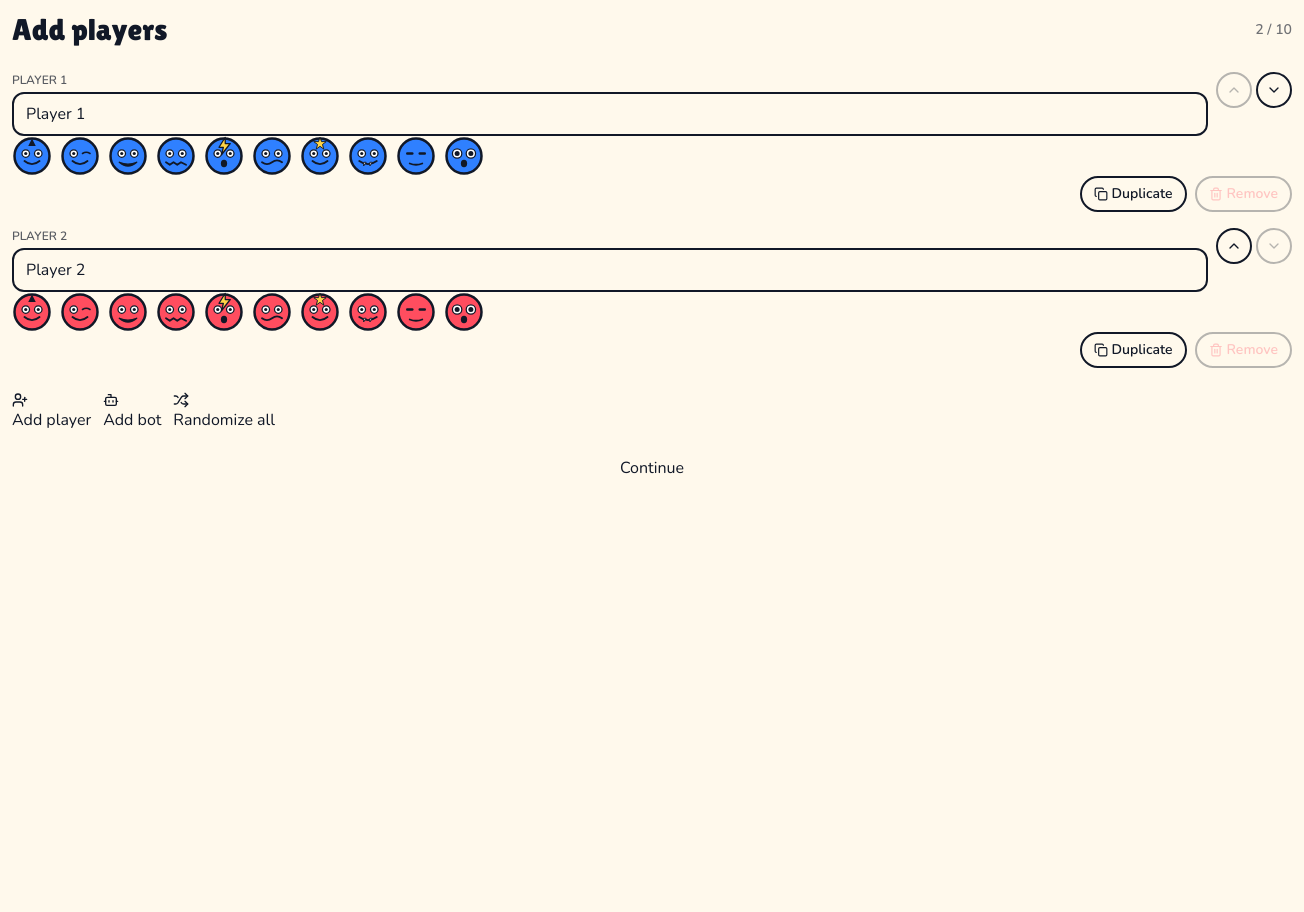
Test: PlayerSetupScreen › adds a bot with a visible Bot badge
Step 1. Click the button "Add bot" → [132, 412], box [103,392,161,432]
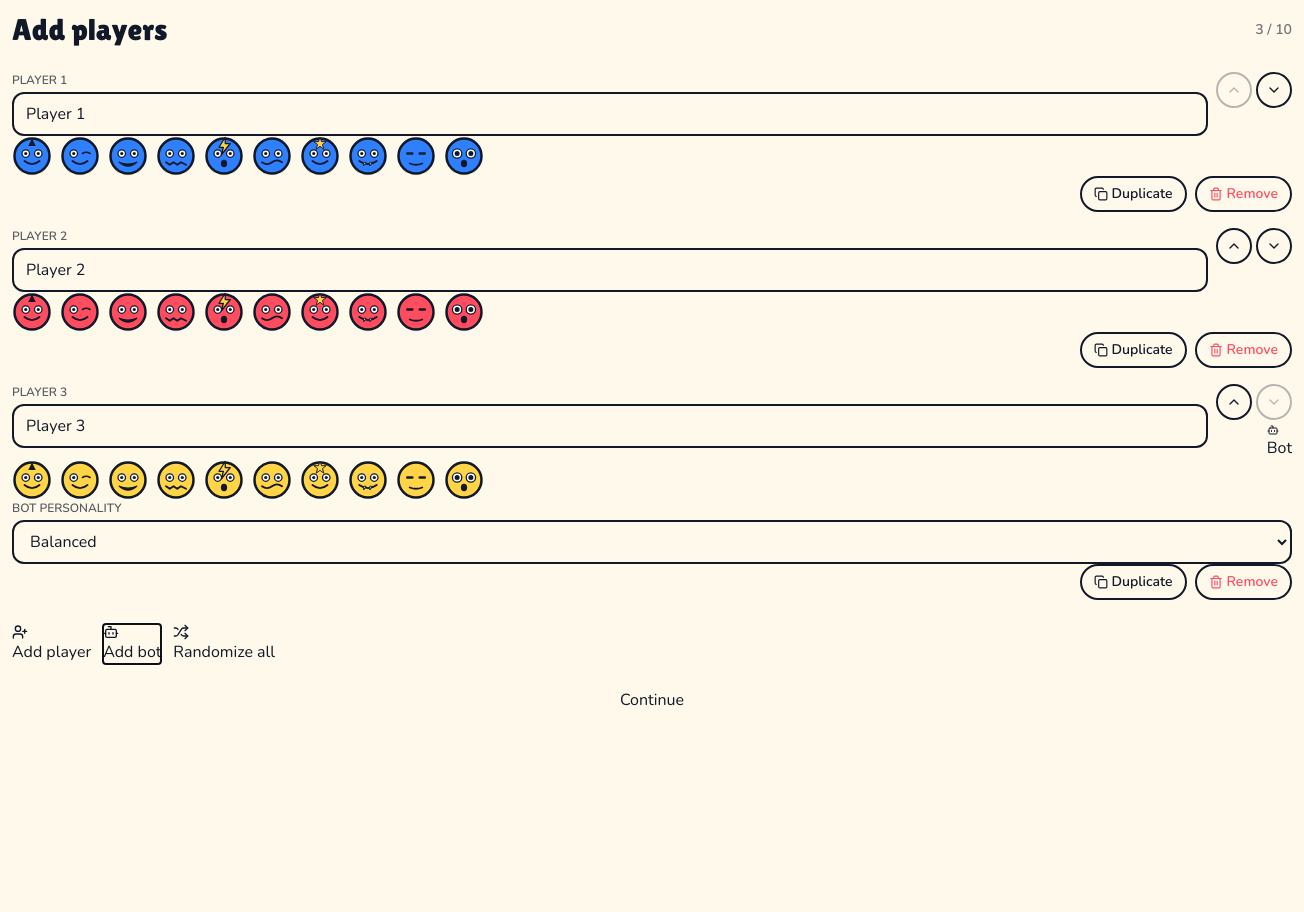
Now the text "Bot" is shown, box [1267,424,1292,460]
